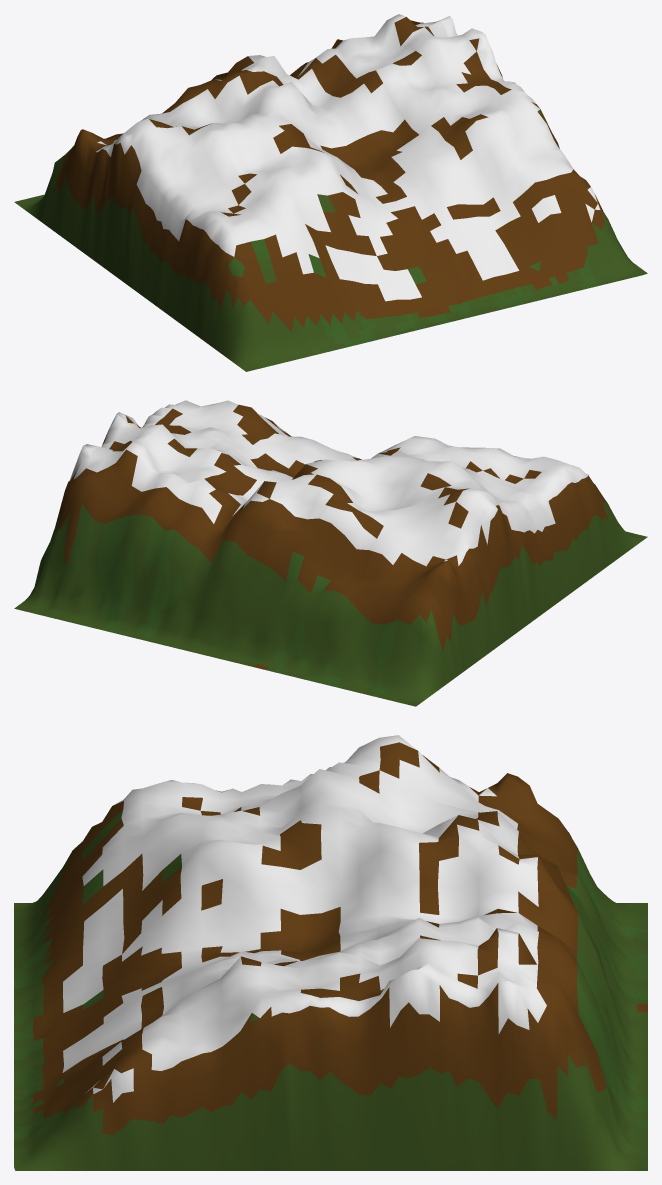
File: S0.mountain.D.glb
The picture shows the model from 3 angles, top to bottom: view 1: azimuth 30°, elevation 25°; view 2: azimuth 150°, elevation 25°; view 3: azimuth 270°, elevation 25°; orthographic projection. The views are drawn at different scales.
Parts seen in each view (by area): view 1: Landscape.003; view 2: Landscape.003; view 3: Landscape.003.
Boxes of the visible parts, x1,y1,x2,y2 form: Landscape.003: [14, 14, 647, 371]; Landscape.003: [14, 400, 647, 706]; Landscape.003: [14, 735, 647, 1170].
Size of the model in its own units: 303 by 103 by 303.
